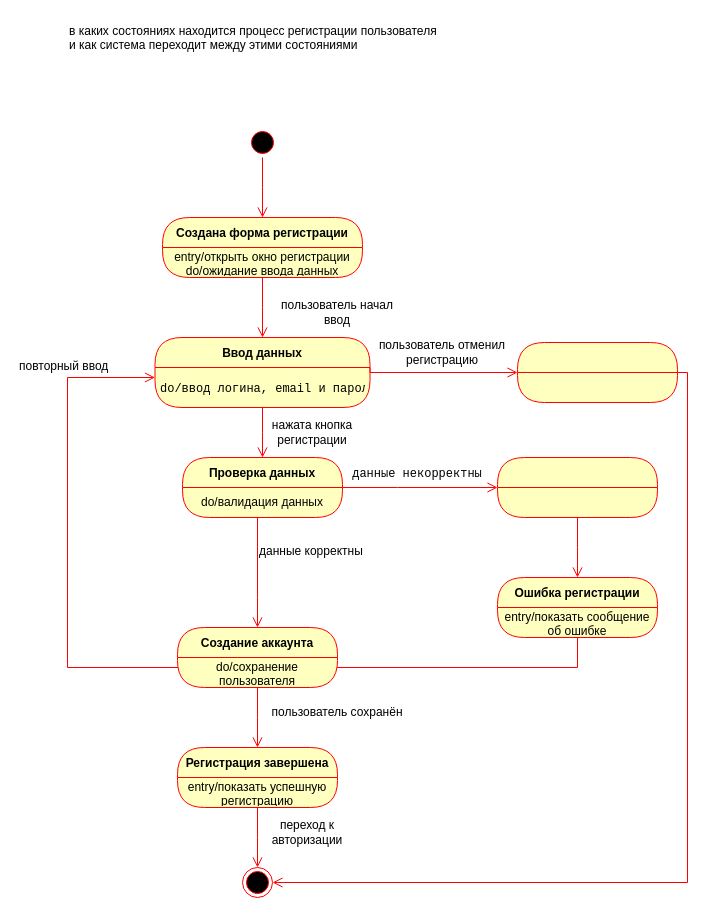
Image size: 715x915. Some labels were removed from this diagram. The centre of each missing label's shape, as x and y in pixels:
"Composite State" belongs at point 577,487.
"Отменена" belongs at point 597,372.
